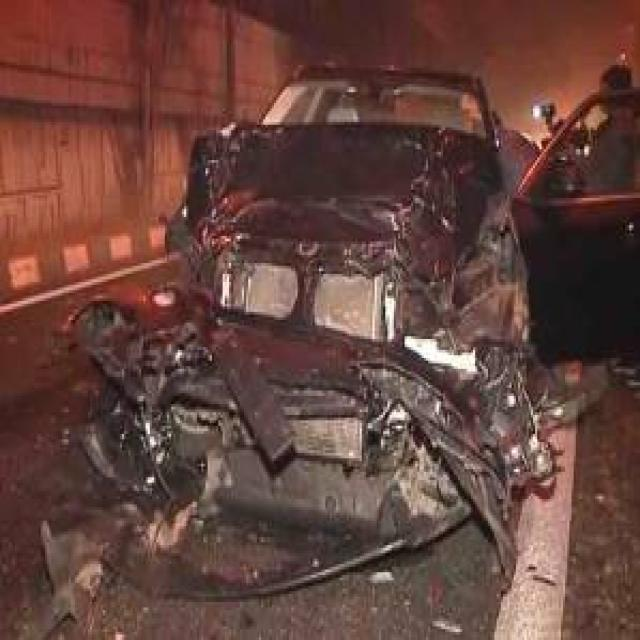accident: (50, 71, 640, 625)
